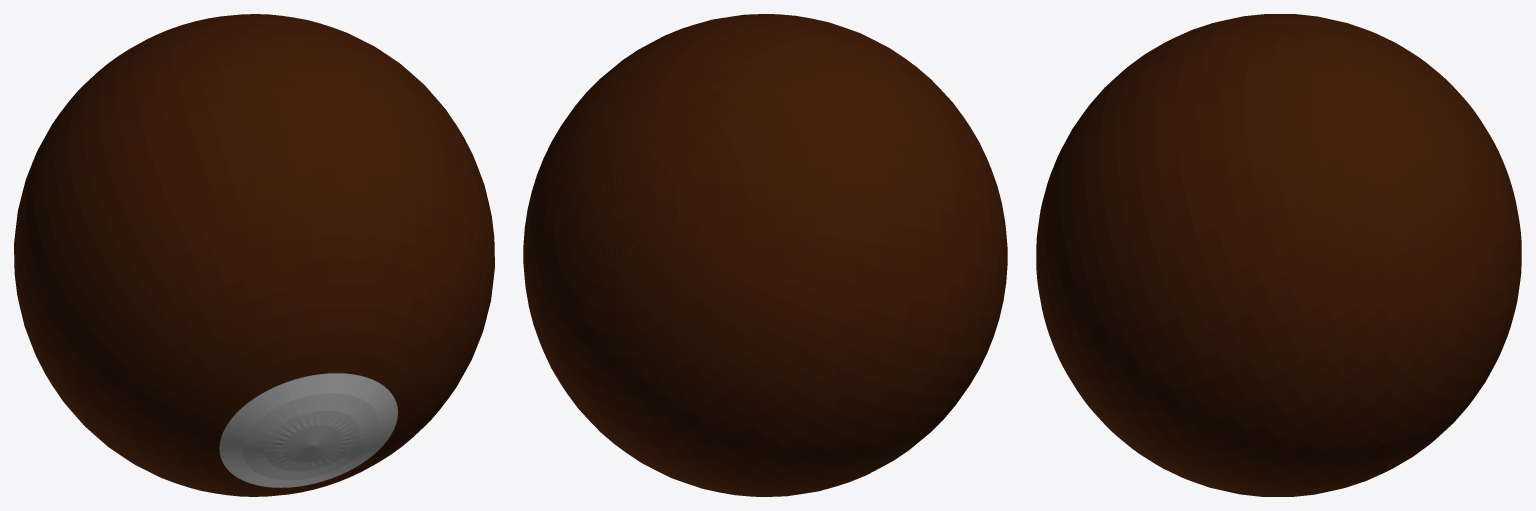
The model's file is 7_ball.obj.
3 views of the same model, side by side, from view 1: azimuth 30°, elevation 25°; view 2: azimuth 150°, elevation 25°; view 3: azimuth 270°, elevation 25° (orthographic).
Parts seen in each view (by area): view 1: Solid.008; view 2: Solid.008; view 3: Solid.008.
Part boxes in pixels (left/top/right/bottom): Solid.008: left=14, top=14, right=494, bottom=496; Solid.008: left=523, top=14, right=1007, bottom=496; Solid.008: left=1036, top=14, right=1521, bottom=496.
Size of the model in its own units: 0.0785 by 0.0787 by 0.0789.
